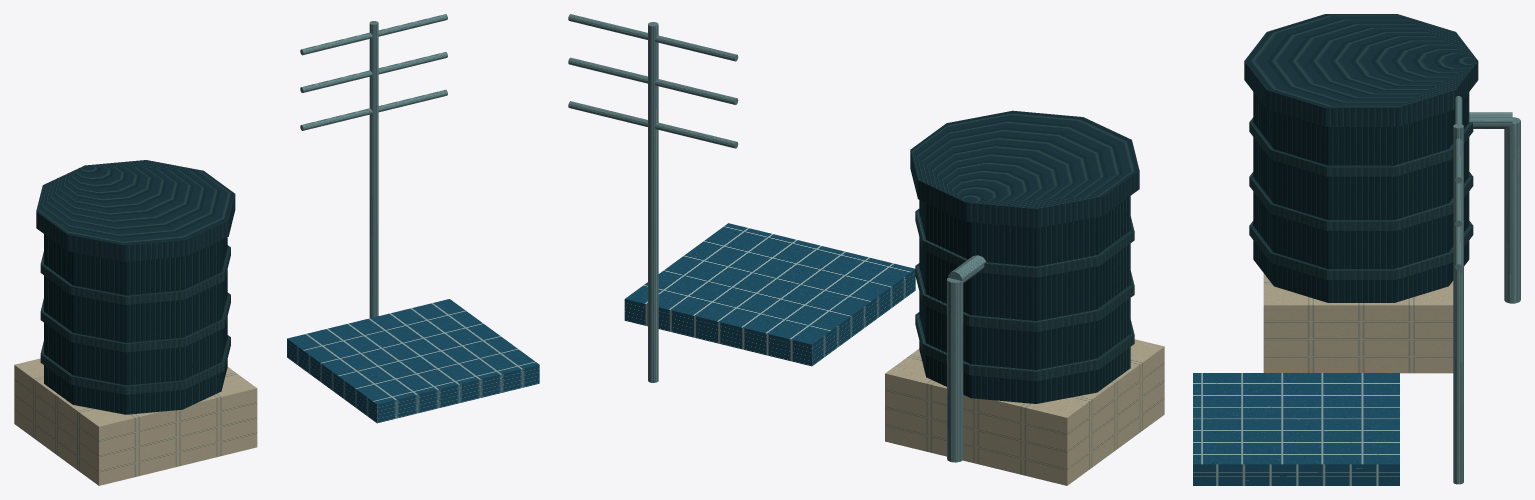
The model's file is rooftop-equipment.glb.
The picture shows the model from 3 angles, left to right: view 1: azimuth 30°, elevation 25°; view 2: azimuth 150°, elevation 25°; view 3: azimuth 270°, elevation 25°; orthographic projection. The views are drawn at different scales.
Parts seen in each view (by area): view 1: rooftop-equipment; view 2: rooftop-equipment; view 3: rooftop-equipment.
Boxes of the visible parts, x1,y1,x2,y2 form: rooftop-equipment: [14, 14, 539, 485]; rooftop-equipment: [568, 14, 1164, 485]; rooftop-equipment: [1193, 14, 1520, 485].
Bounding box in the file's own units: 1.93 × 1.33 × 1.09.
1 material, 1 textured.
